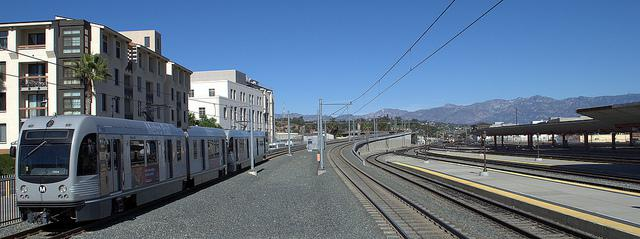Train: (16, 114, 271, 226)
